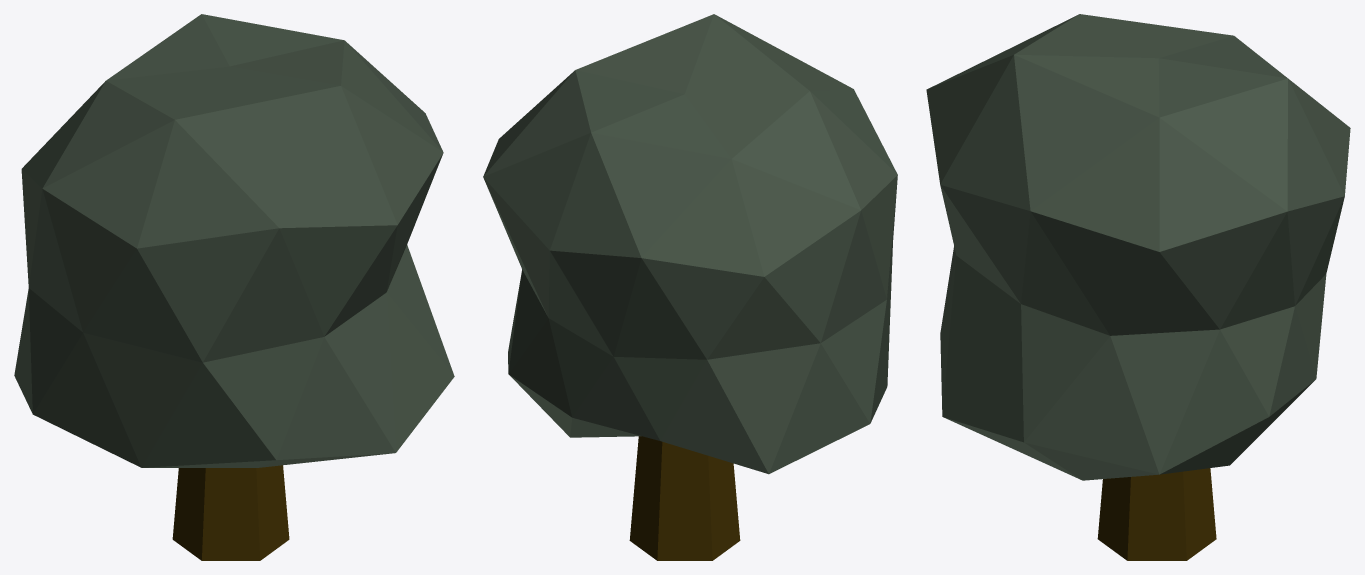
Rendered from ShrubD.fbx.
3 views of the same model, side by side, from view 1: azimuth 30°, elevation 25°; view 2: azimuth 150°, elevation 25°; view 3: azimuth 270°, elevation 25° (orthographic). The views are drawn at different scales.
Parts seen in each view (by area): view 1: SketchUp; view 2: SketchUp; view 3: SketchUp.
Part boxes in pixels (x1=…): SketchUp: x1=14, y1=14, x2=454, y2=560; SketchUp: x1=483, y1=14, x2=897, y2=560; SketchUp: x1=926, y1=14, x2=1350, y2=560.
Bounding box in the file's own units: 179 × 216 × 165.
